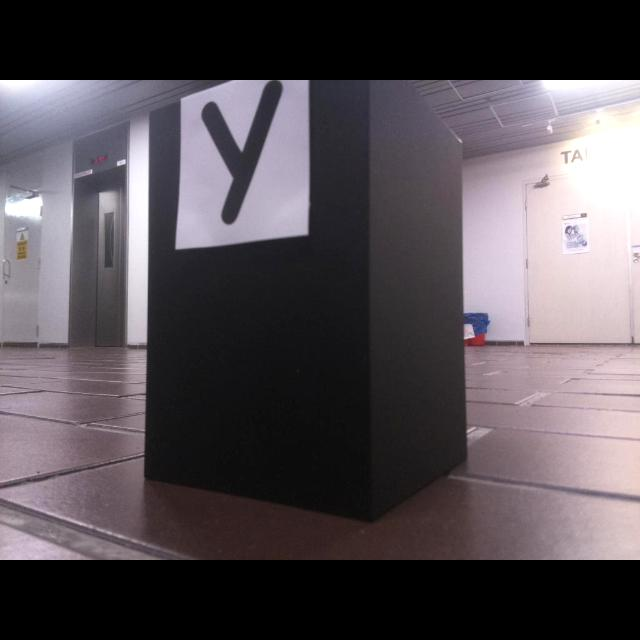Y: (202, 80, 282, 224)
